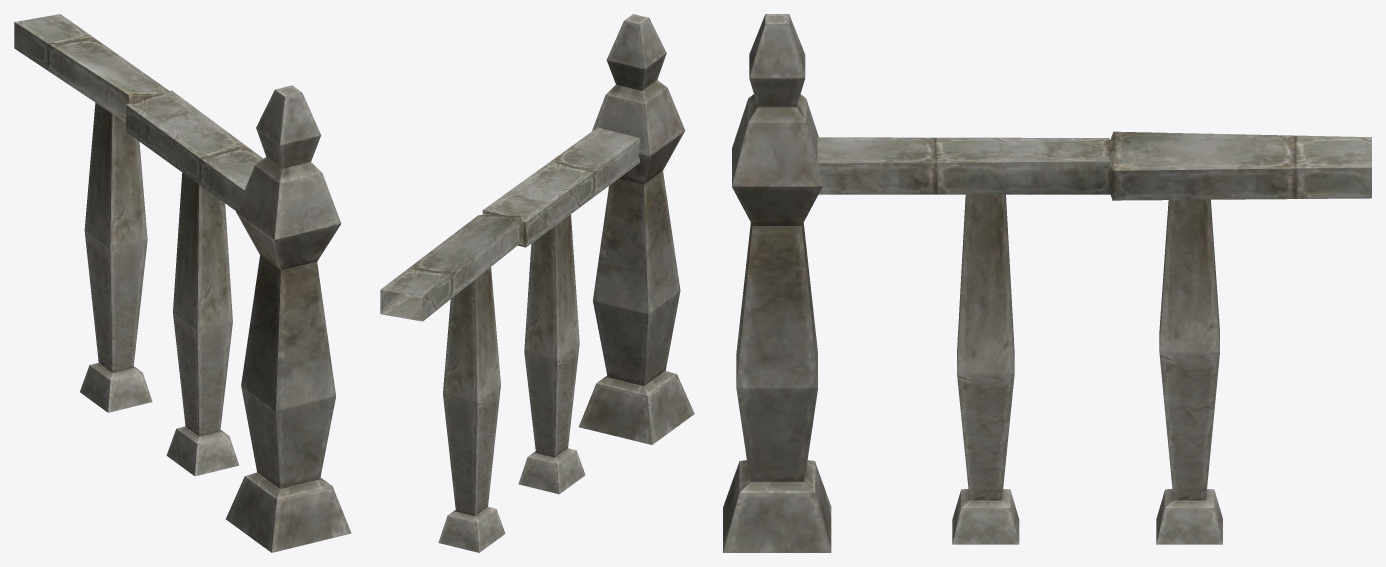
The model's file is bg_lut_lucastle_arenafence01b_sm_bjh.FBX.
The picture shows the model from 3 angles, left to right: view 1: azimuth 30°, elevation 25°; view 2: azimuth 150°, elevation 25°; view 3: azimuth 270°, elevation 25°; orthographic projection. The views are drawn at different scales.
Parts seen in each view (by area): view 1: bg_lut_lucastle_arenafence01b_sm_bjh; view 2: bg_lut_lucastle_arenafence01b_sm_bjh; view 3: bg_lut_lucastle_arenafence01b_sm_bjh.
Boxes of the visible parts, x1,y1,x2,y2 form: bg_lut_lucastle_arenafence01b_sm_bjh: [14, 14, 351, 552]; bg_lut_lucastle_arenafence01b_sm_bjh: [380, 14, 694, 552]; bg_lut_lucastle_arenafence01b_sm_bjh: [723, 14, 1371, 552].
Size of the model in its own units: 25.95 by 135 by 155.
